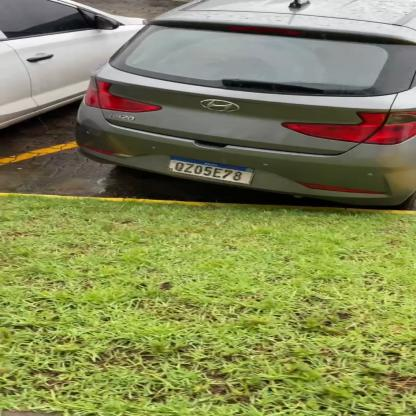Plate: (166, 151, 258, 187)
